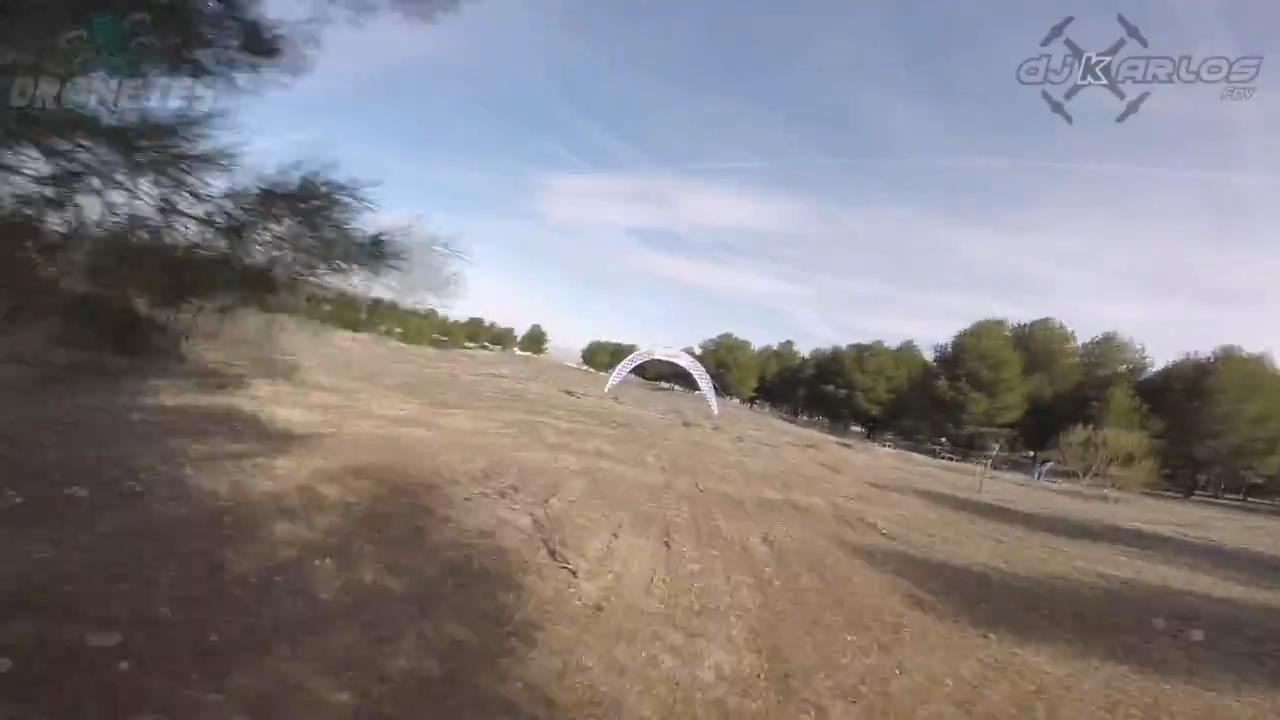gate: (604, 345, 724, 423)
